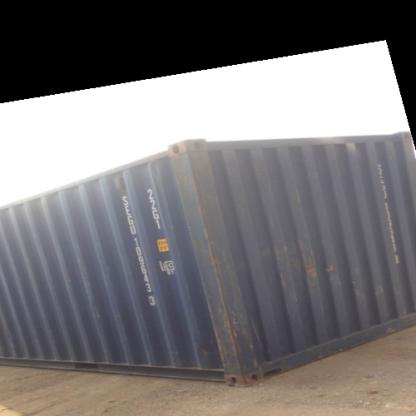Damage: (200, 235, 254, 362), (266, 232, 360, 285), (171, 151, 216, 209)
